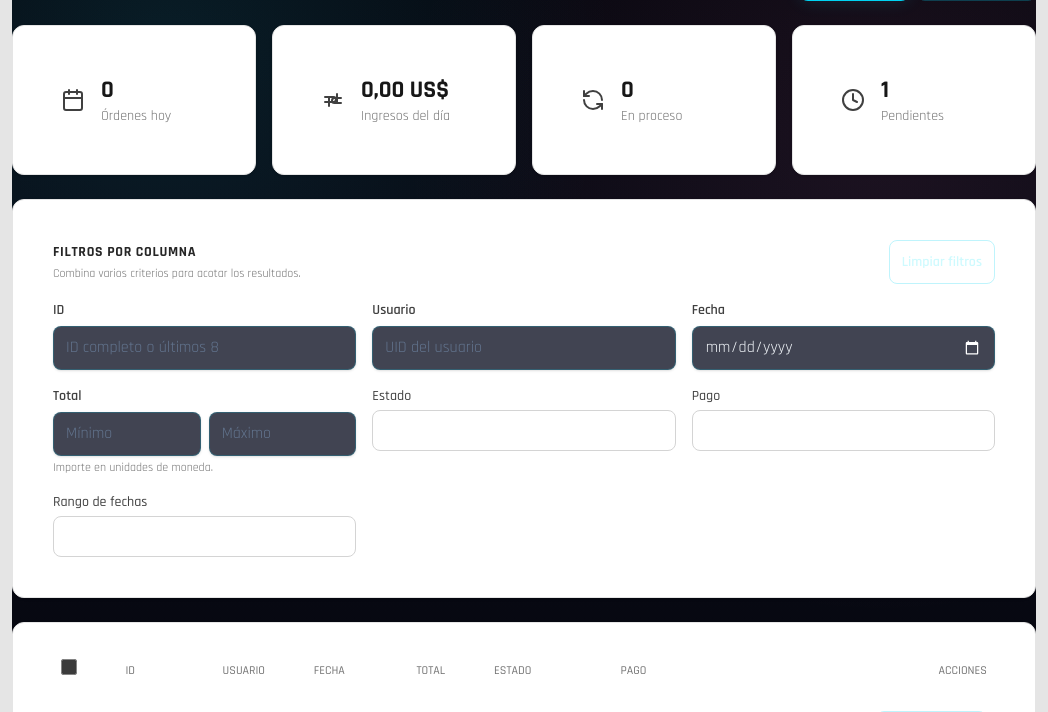
Scenario: AdminOrdersPage › filters orders by ID, user, exact date, and total range
Type "order-1" into the field named "Filtrar por ID".
click(205, 348); type("order-1")  # box [53,326,356,370]
Type "user-1" into the field named "Filtrar por usuario".
click(524, 348); type("user-1")  # box [372,326,676,370]
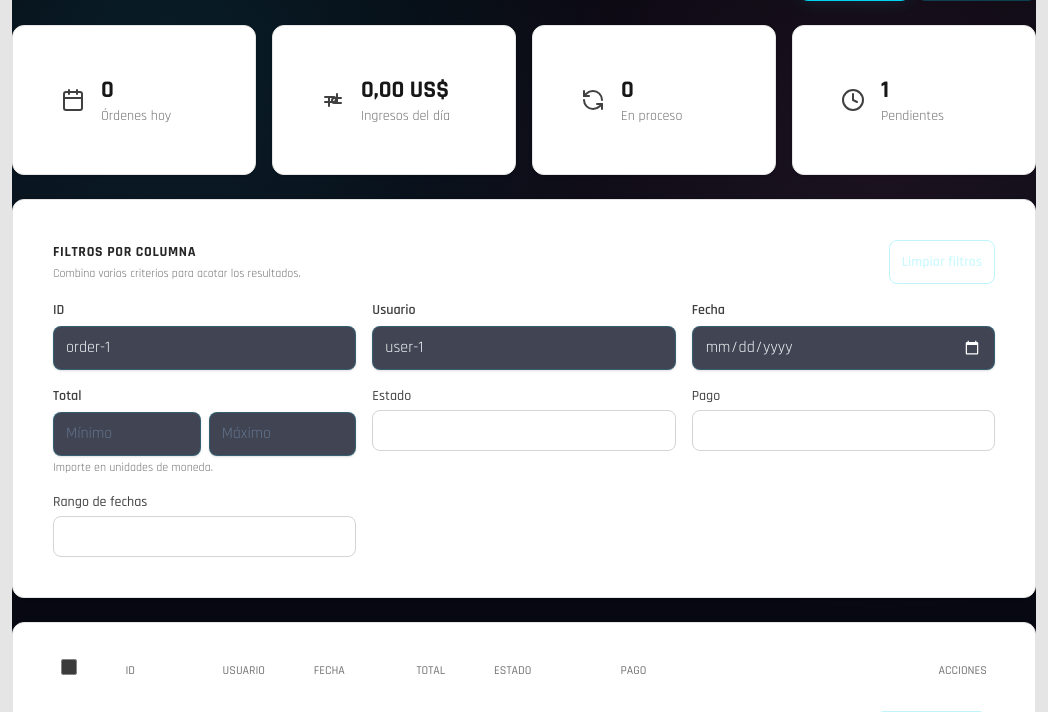
Type "2025-01-15" into the date field named "Filtrar por fecha".
click(843, 348); type("2025-01-15")  # box [692,326,995,370]
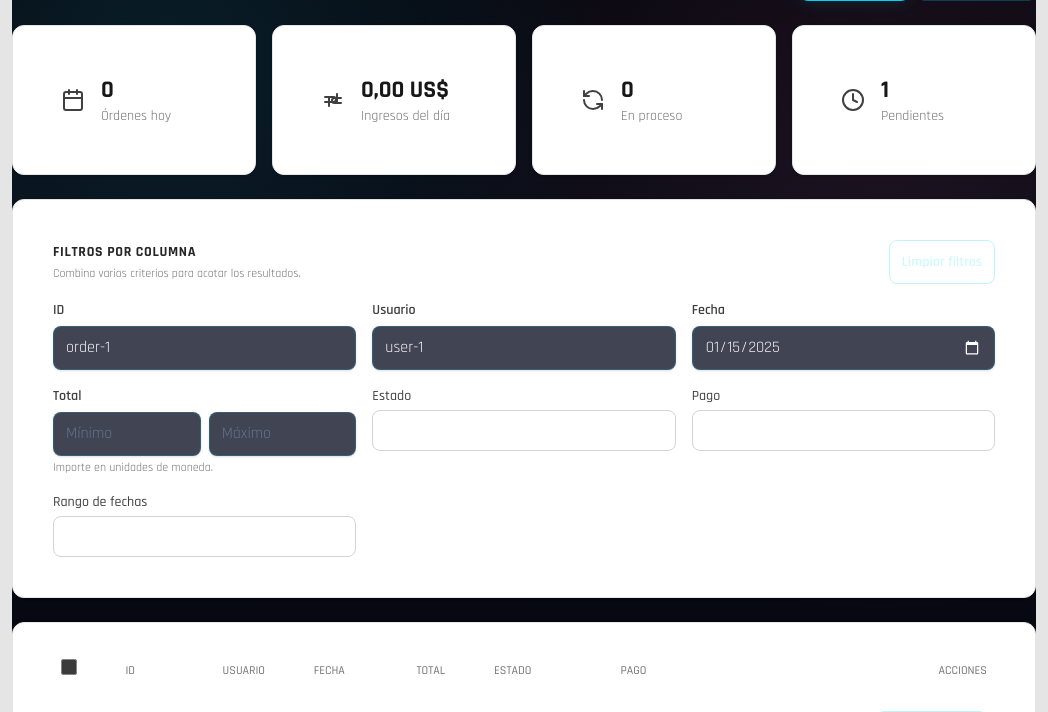
Type "1.00" into the number field named "Total mínimo".
click(127, 434); type("1.00")  # box [53,412,201,456]
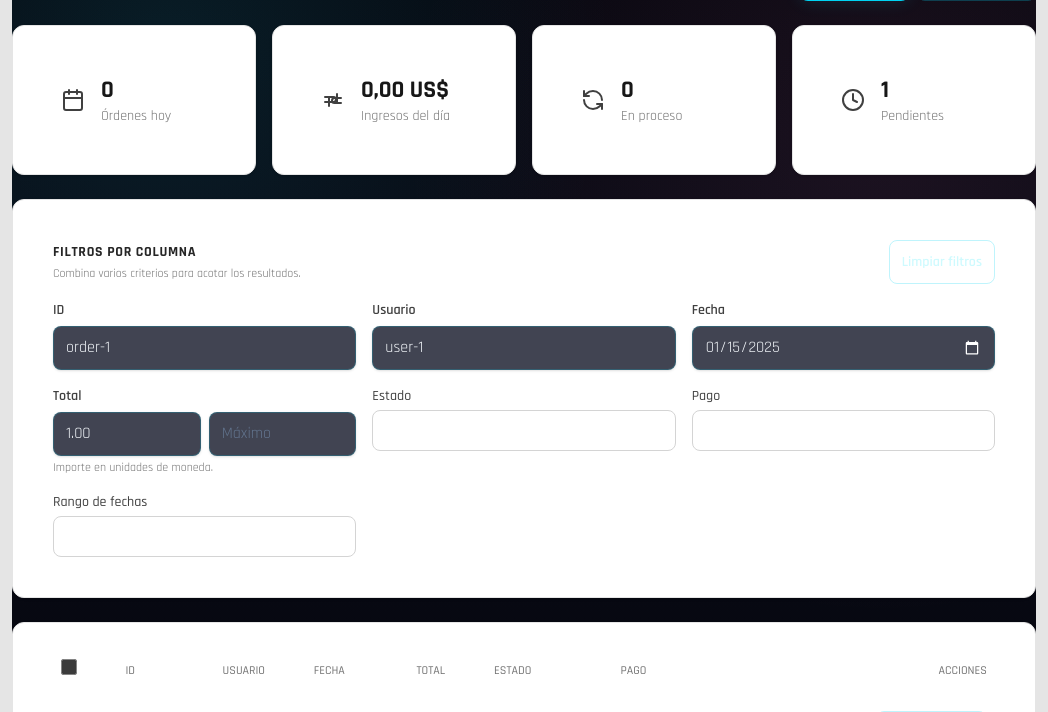
Type "2.00" into the number field named "Total máximo".
click(283, 434); type("2.00")  # box [209,412,356,456]
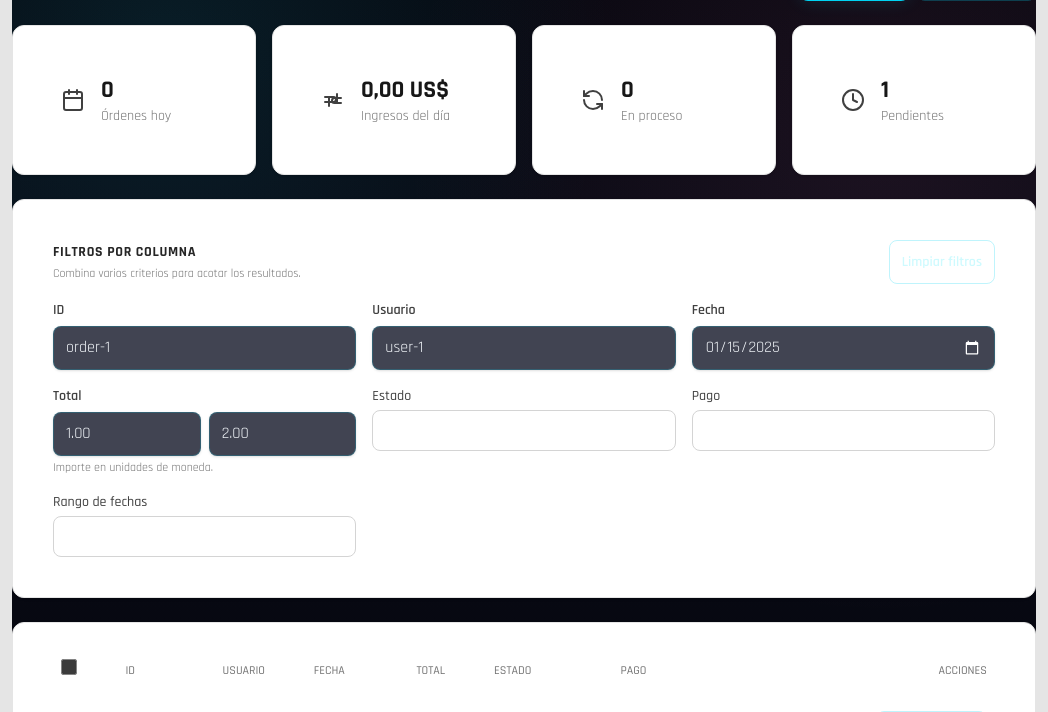
Replace the text in the number field named "Total mínimo" with "2.00" at (127, 434), box [53,412,201,456]
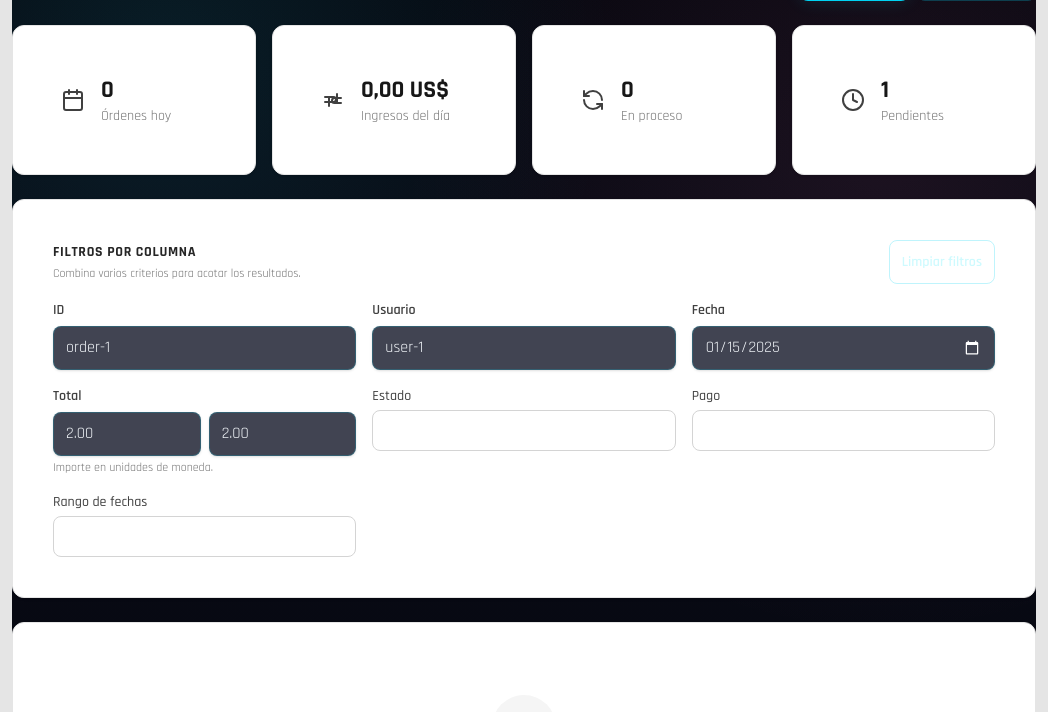
Click the button "Limpiar filtros".
click(942, 262)  # box [889,240,995,284]
(page scrolled)
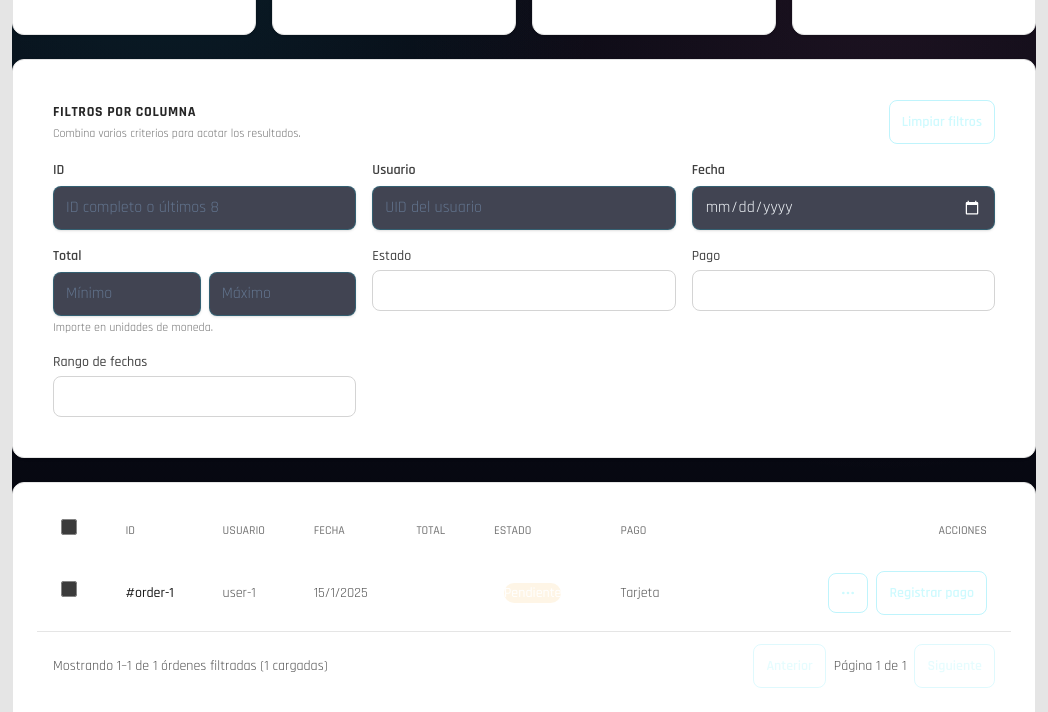
Result: the text "#order-1" is shown at [102,555,199,631]
